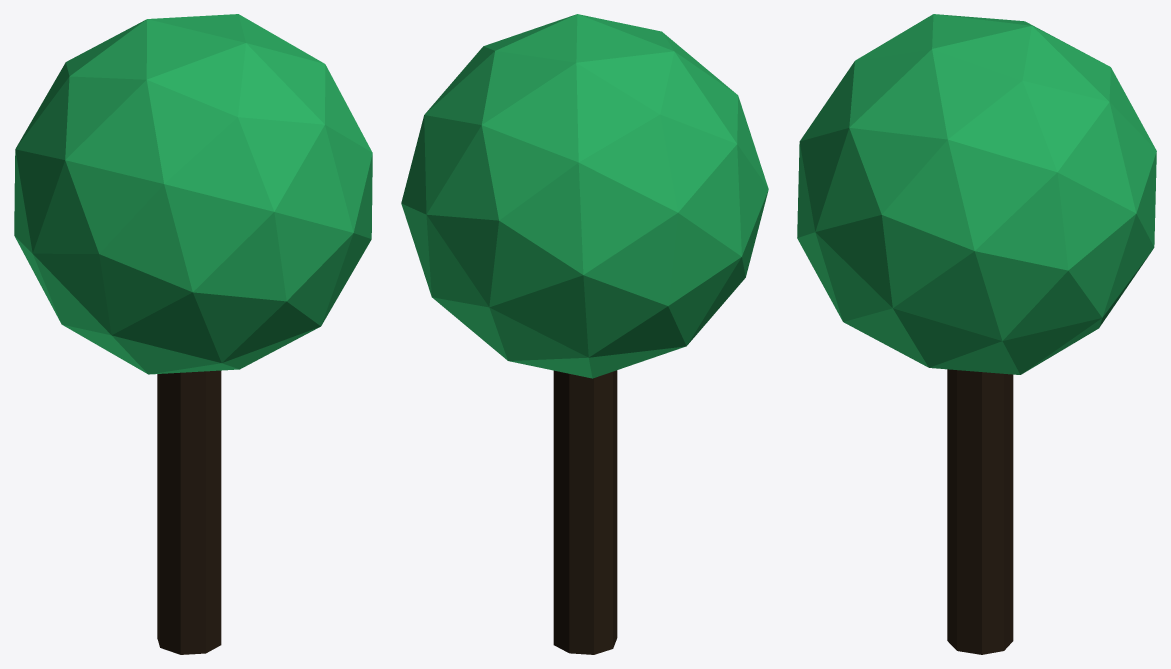
Rendered from tree1.fbx.
The picture shows the model from 3 angles, left to right: view 1: azimuth 30°, elevation 25°; view 2: azimuth 150°, elevation 25°; view 3: azimuth 270°, elevation 25°; orthographic projection.
Parts seen in each view (by area): view 1: Tree1; view 2: Tree1; view 3: Tree1.
Boxes of the visible parts, <box> form: Tree1: <box>14,14,372,654</box>; Tree1: <box>401,14,768,654</box>; Tree1: <box>797,14,1156,654</box>.
Size of the model in its own units: 235 by 428 by 229.
